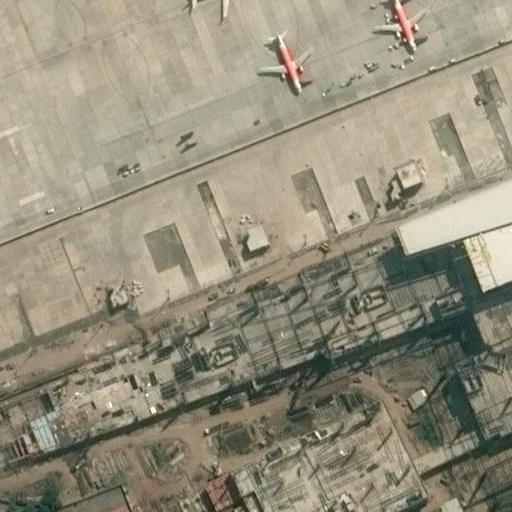Aircraft: (255, 30, 313, 96), (373, 0, 430, 56), (181, 0, 256, 15)
